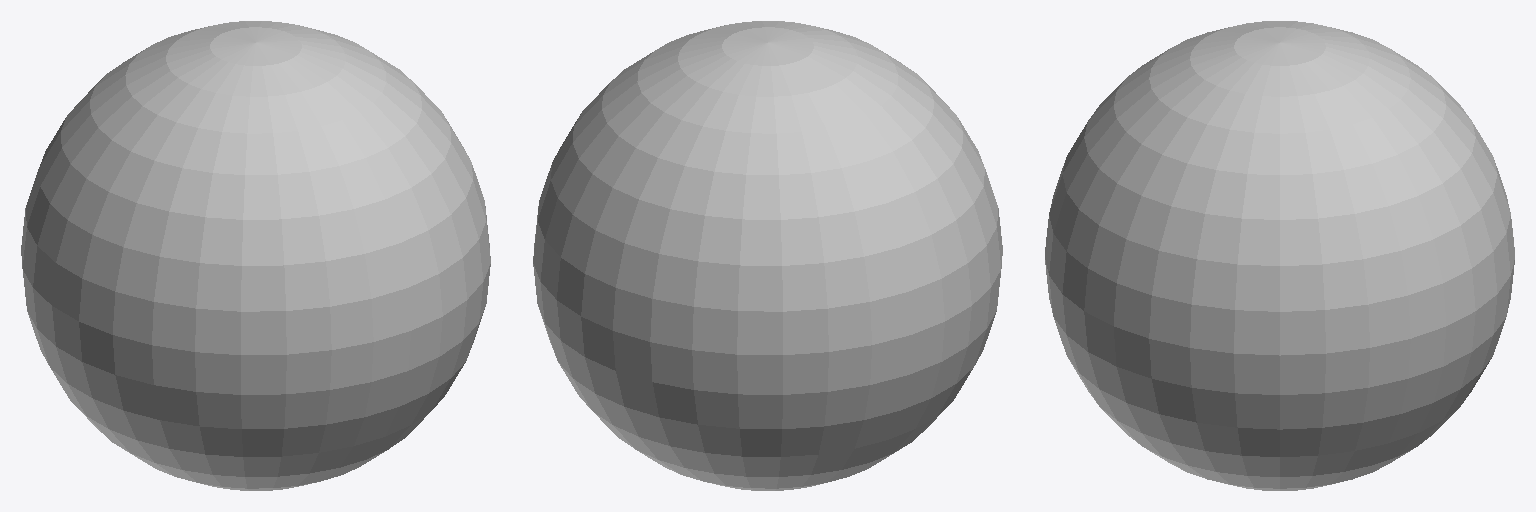
The model's file is ball_whiteSkin.obj.
3 views of the same model, side by side, from view 1: azimuth 30°, elevation 25°; view 2: azimuth 150°, elevation 25°; view 3: azimuth 270°, elevation 25° (orthographic).
Visible parts, largest first — view 1: Sphere; view 2: Sphere; view 3: Sphere.
Boxes of the visible parts, box(x1,y1,x2,y2) form: Sphere: box(21, 21, 490, 490); Sphere: box(533, 21, 1002, 490); Sphere: box(1045, 21, 1514, 490).
Size of the model in its own units: 1 by 1 by 1.